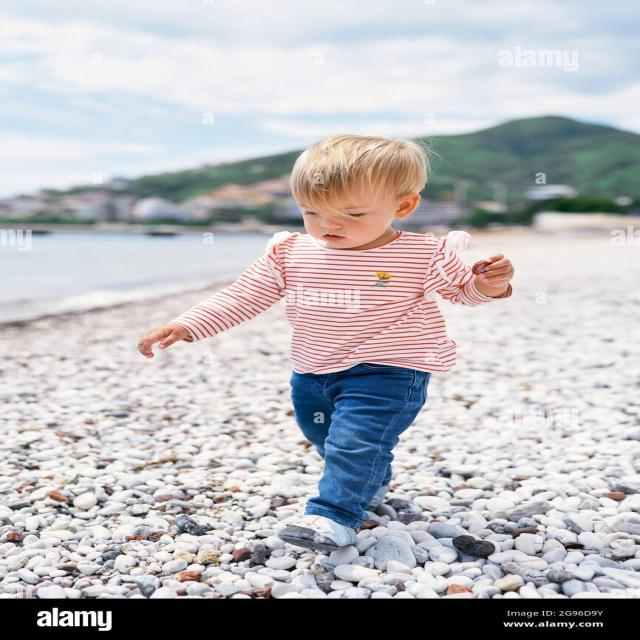Person: (139, 134, 511, 547)
